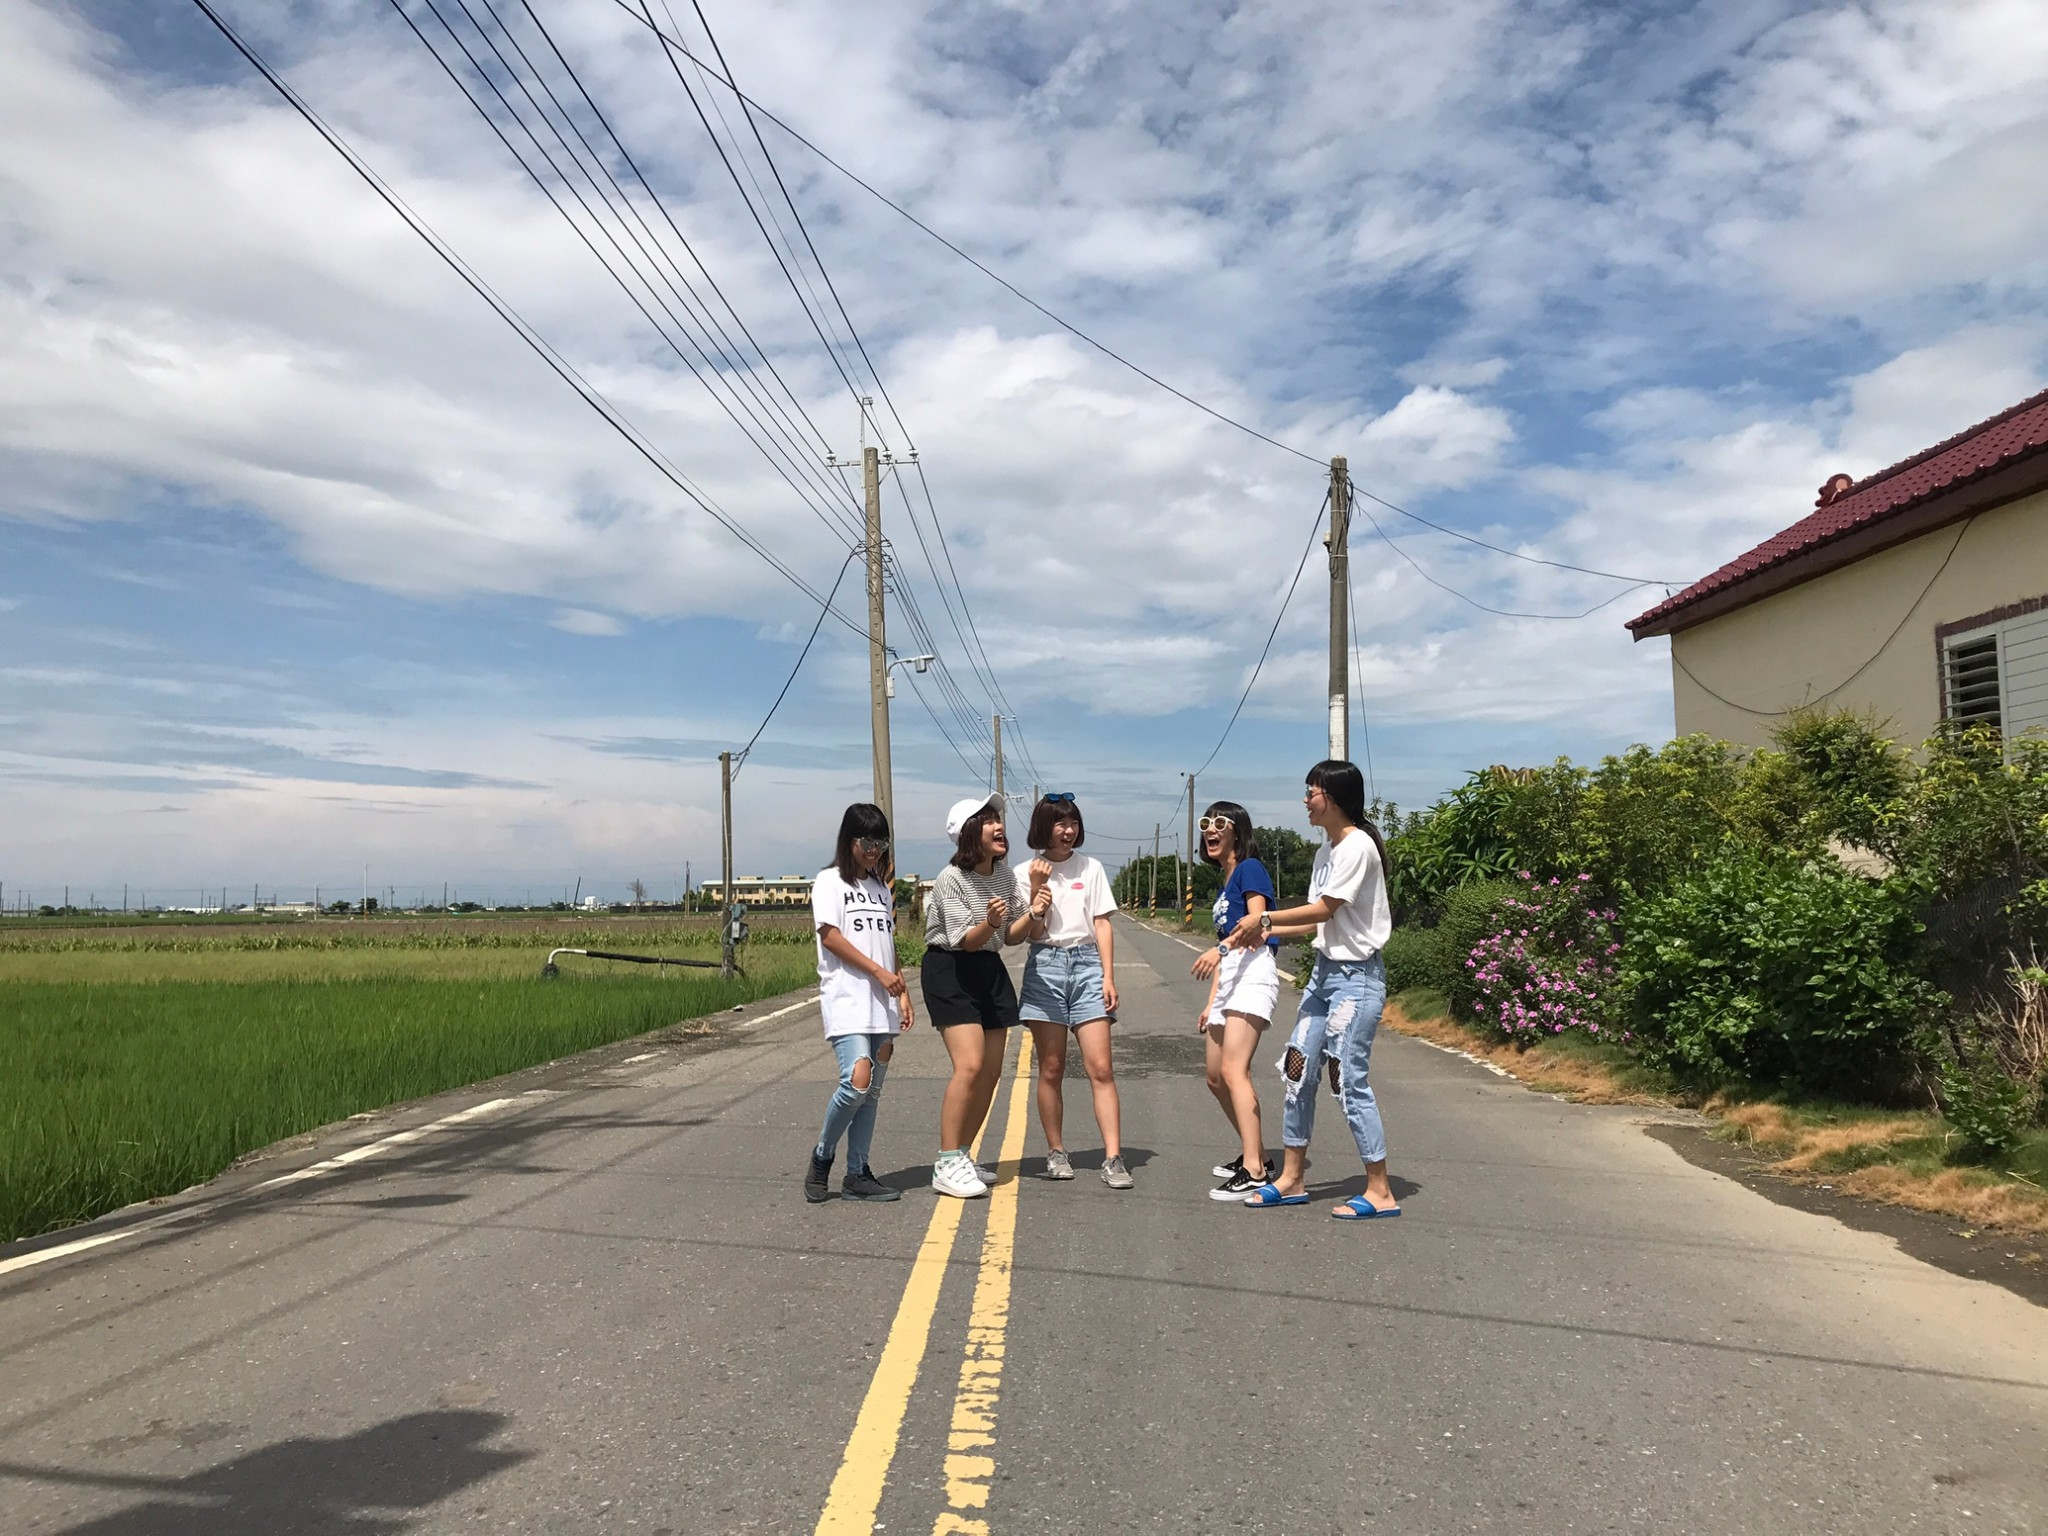people: (1278, 760, 1422, 1255), (810, 796, 907, 1246), (928, 796, 1016, 1228), (1181, 805, 1275, 1205), (1022, 790, 1116, 1196)
